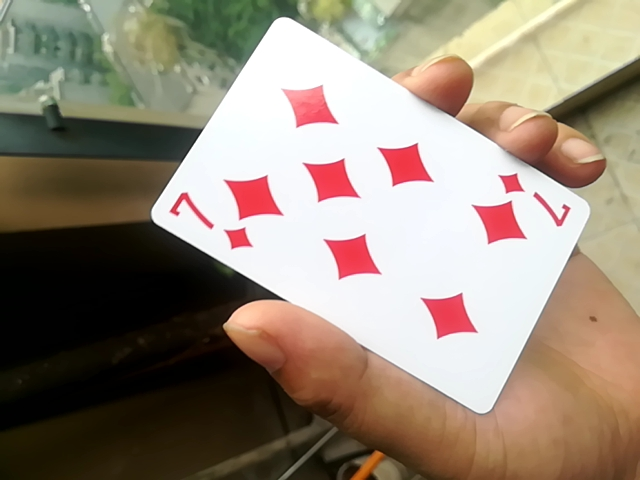fk 7: (145, 21, 598, 429)
